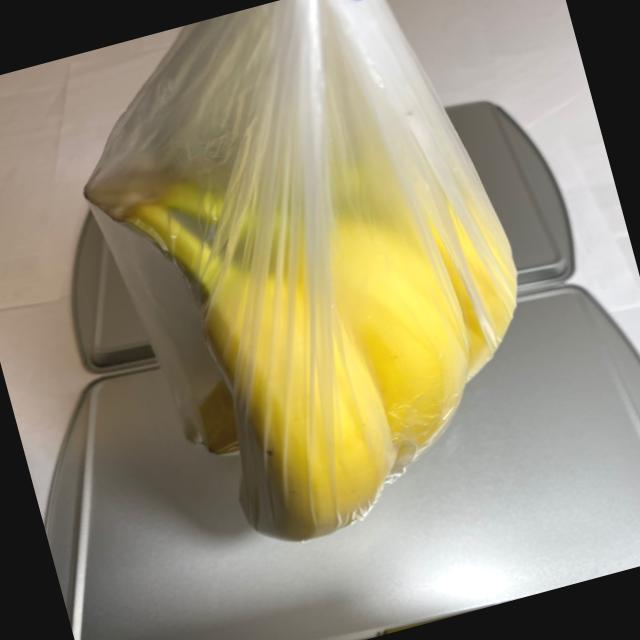banana: (60, 15, 573, 582)
